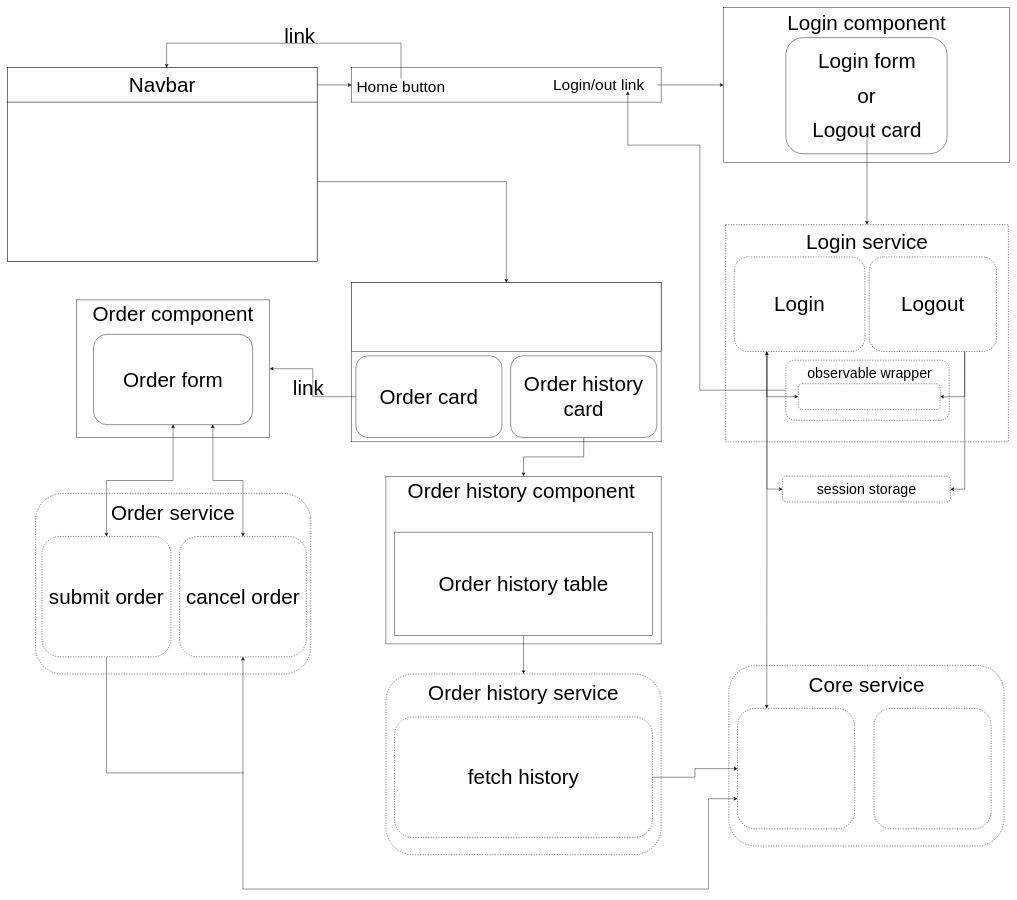
Image size: 1017x900. Some labels were removed from this diagram. Each missing label, with the centre of its shape:
Home: the point at 162,181
HTTP wrappers: the point at 796,768
navigation: the point at 932,768
token subject: the point at 869,396
Welcome Image/Text: the point at 506,317
